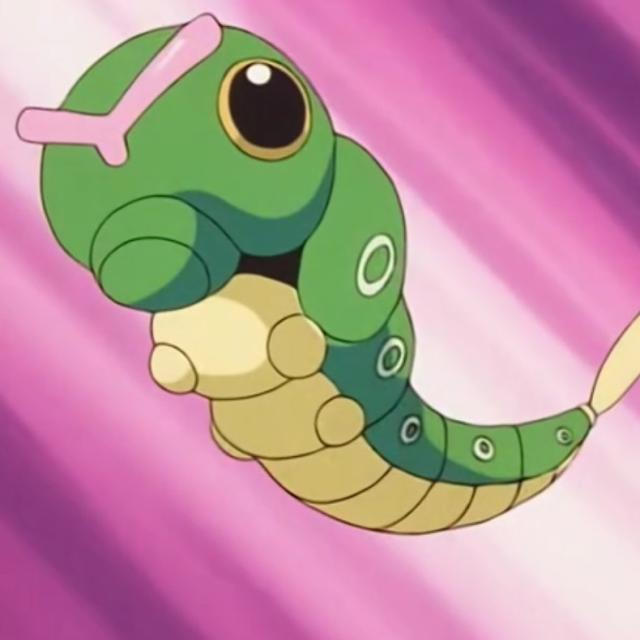Caterpie: (27, 20, 628, 541)
